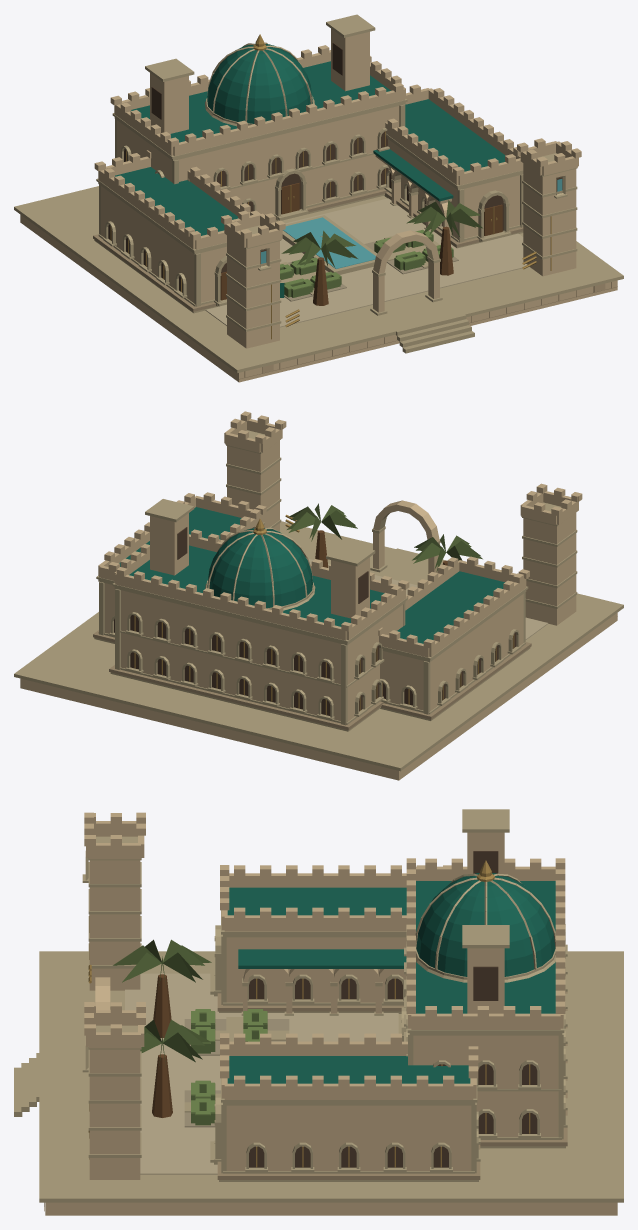
Rendered from desert.glb.
3 views of the same model, one above another, from view 1: azimuth 30°, elevation 25°; view 2: azimuth 150°, elevation 25°; view 3: azimuth 270°, elevation 25° (orthographic). The views are drawn at different scales.
Parts seen in each view (by area): view 1: oasis-courts, precinct-base, oasis-courts-roof, inhabited-detail; view 2: oasis-courts, precinct-base, oasis-courts-roof; view 3: oasis-courts, precinct-base, oasis-courts-roof, inhabited-detail.
Boxes of the visible parts, x1,y1,x2,y2 form: oasis-courts: (93, 14, 581, 348); precinct-base: (14, 186, 623, 382); oasis-courts-roof: (94, 34, 523, 249); inhabited-detail: (239, 216, 617, 379); oasis-courts: (93, 411, 582, 731); precinct-base: (14, 521, 623, 780); oasis-courts-roof: (98, 492, 529, 657); oasis-courts: (82, 809, 567, 1181); precinct-base: (39, 951, 623, 1215); oasis-courts-roof: (220, 858, 565, 1099); inhabited-detail: (14, 914, 91, 1211).
Bounding box in the file's own units: 23.5 × 10.42 × 24.52.
